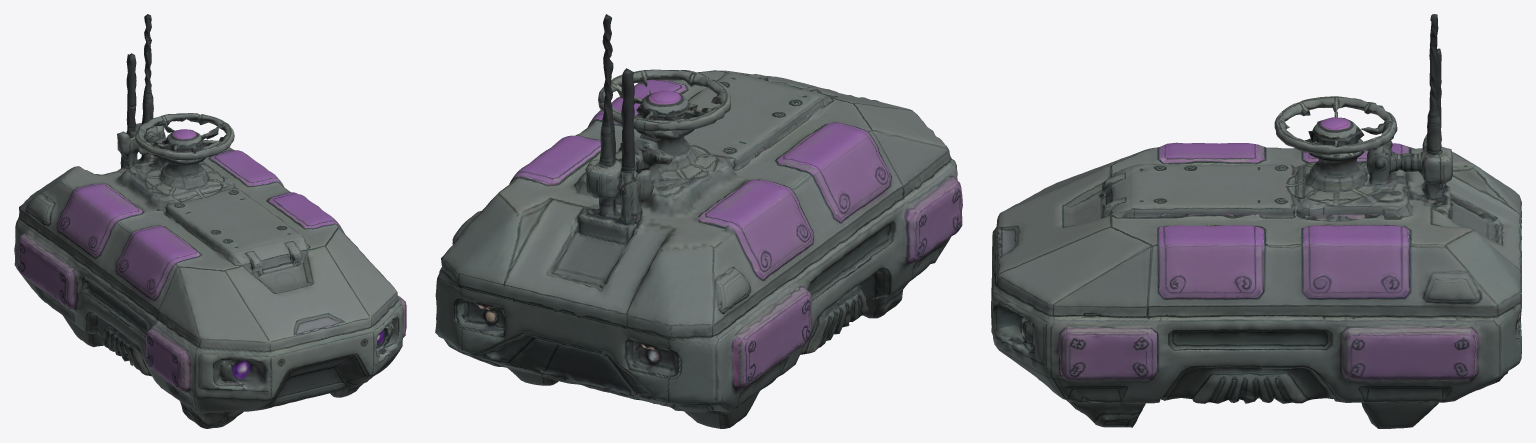
File: CommanderRobot.glb
3 renders of one model, left to right at view 1: azimuth 30°, elevation 25°; view 2: azimuth 150°, elevation 25°; view 3: azimuth 270°, elevation 25°, orthographic. The views are drawn at different scales.
Visible parts, largest first — view 1: texture_mapping; view 2: texture_mapping; view 3: texture_mapping.
Part boxes in pixels (x1,y1,x2,y2): texture_mapping: (14,14,406,428); texture_mapping: (435,14,962,428); texture_mapping: (991,14,1521,428).
Bounding box in the file's own units: 0.617 × 0.7644 × 0.9948.
Materials: 1 (1 with a texture image).
